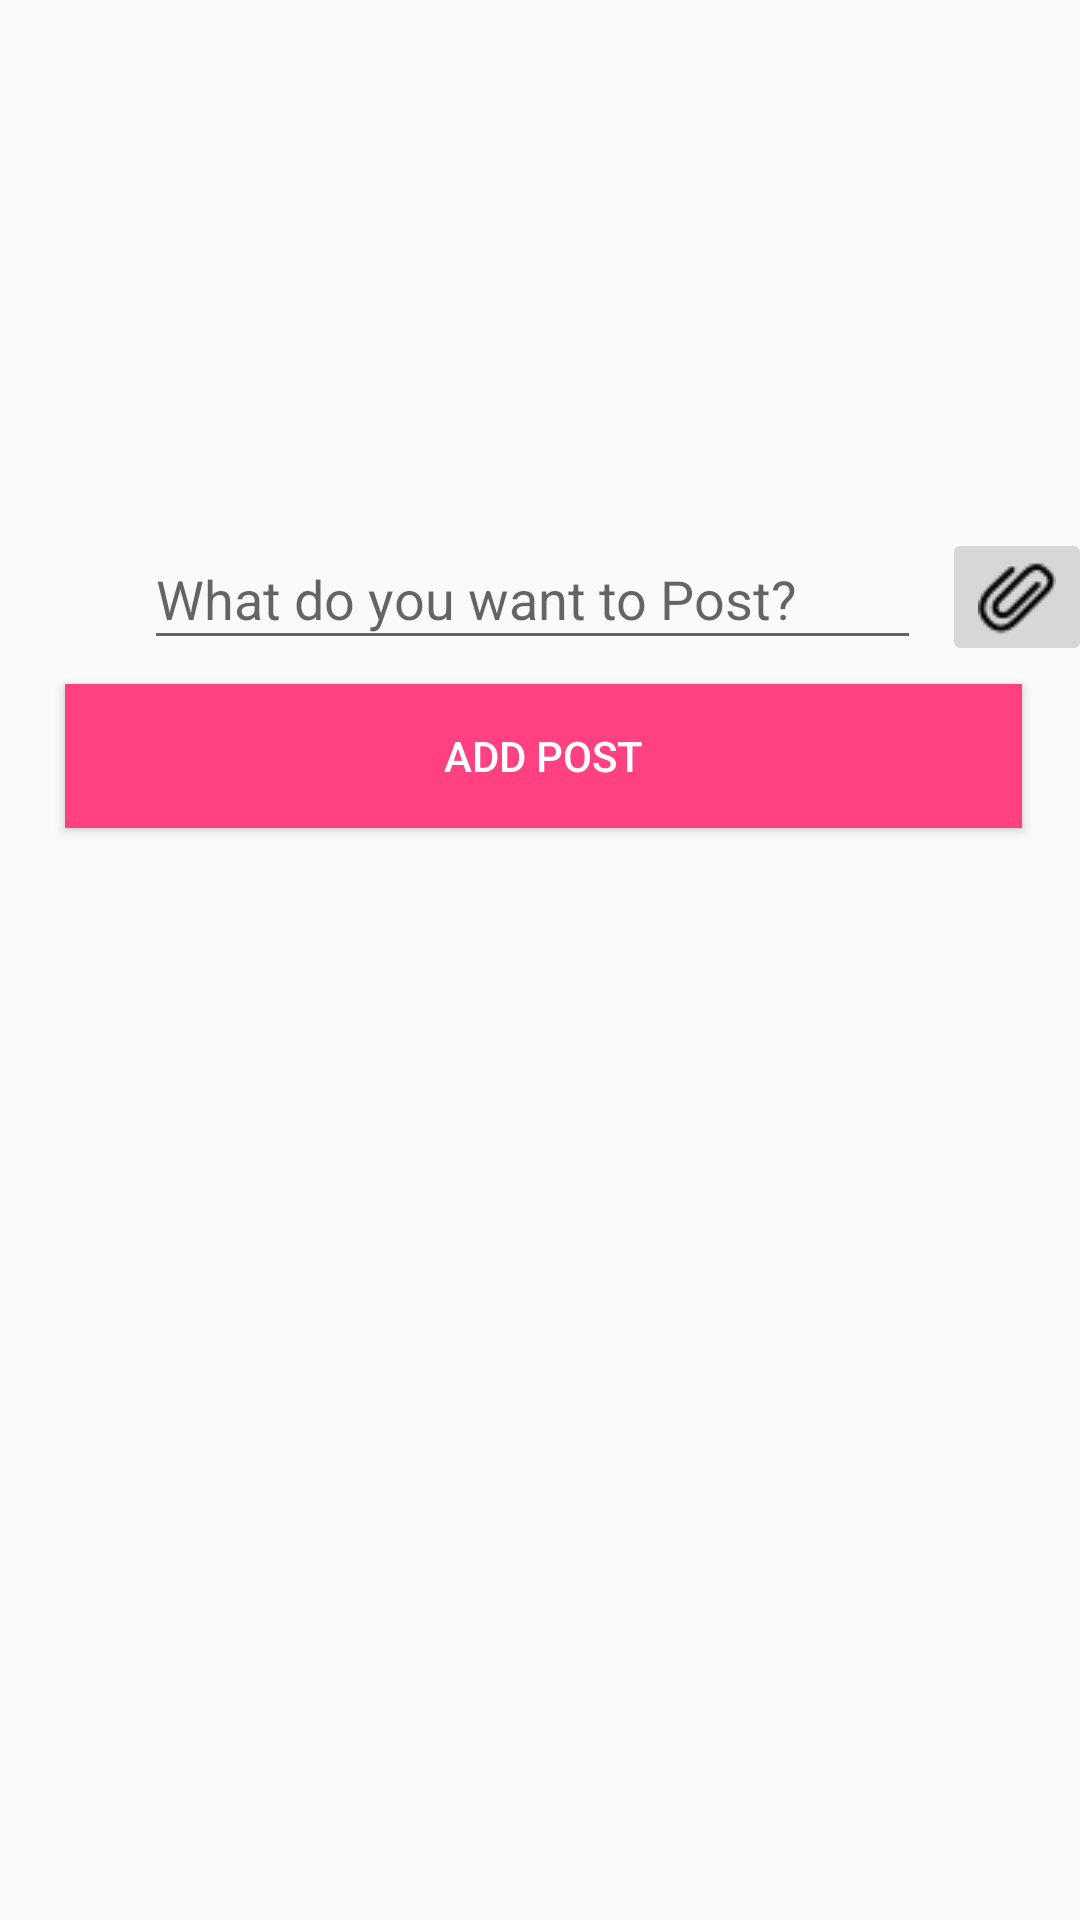

Where to tap for icons on this 1080w x 1920h app screen, as point (x, y):
attach: point (1017, 597)
